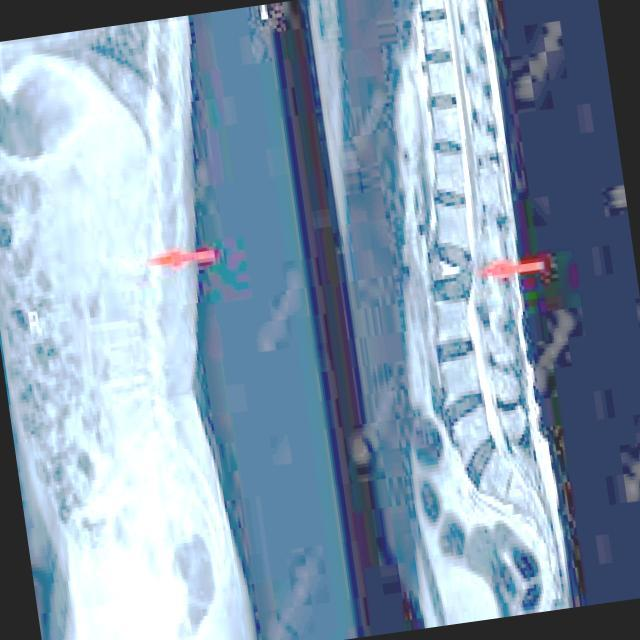Compression-Crush Fracutre: (421, 247, 485, 304)
